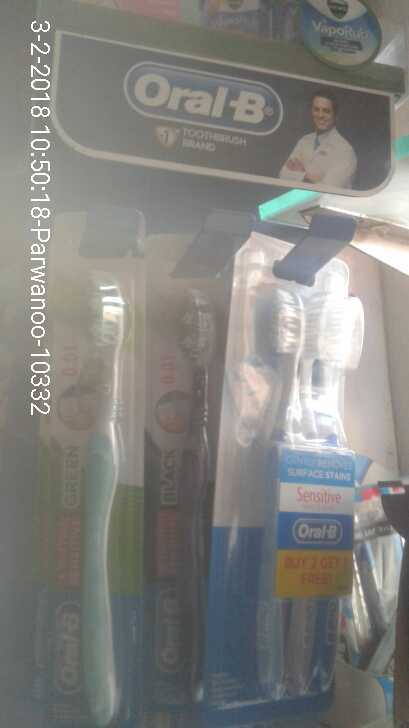oralb: (229, 236, 346, 708), (64, 223, 139, 723)
